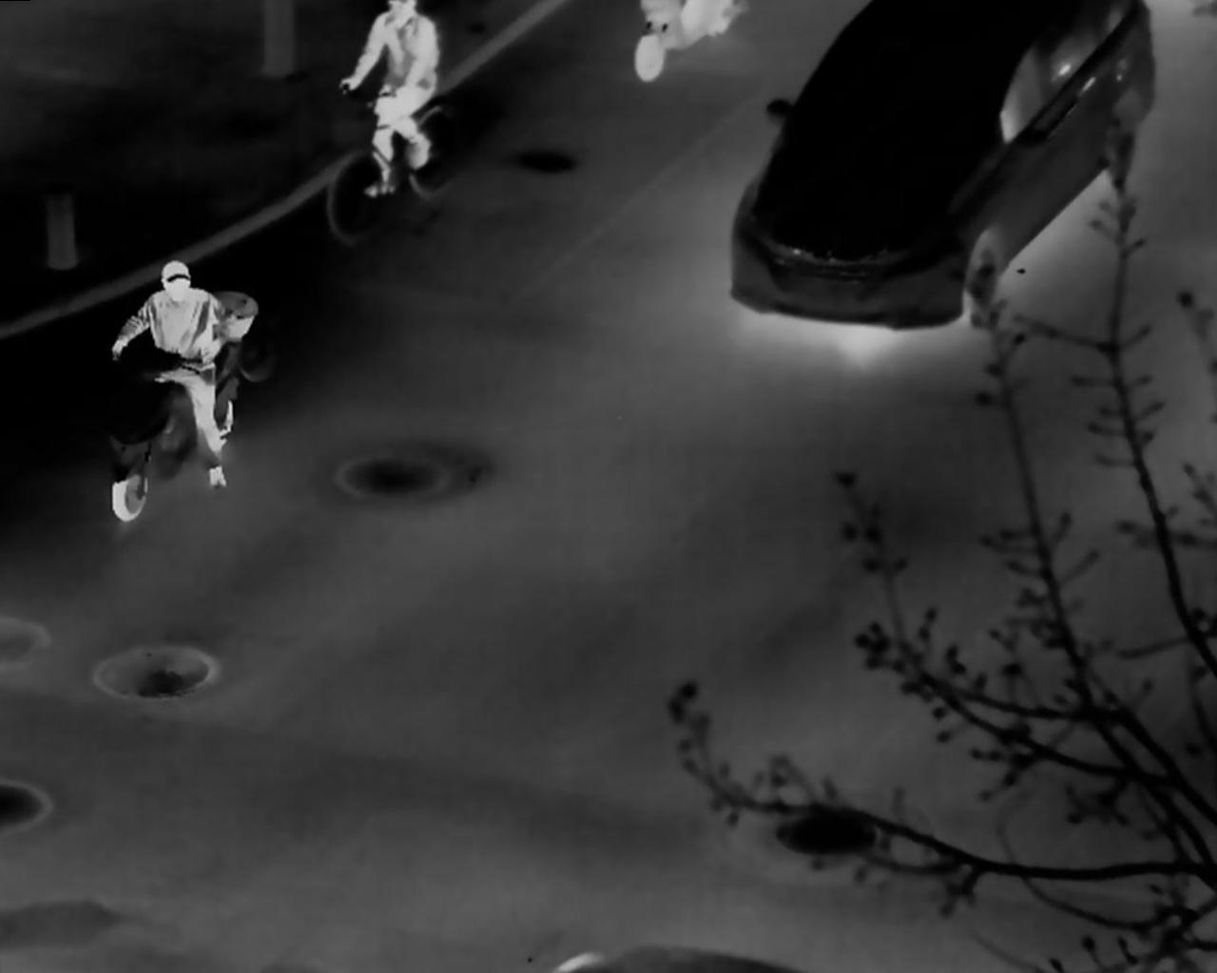person: (106, 262, 226, 432)
